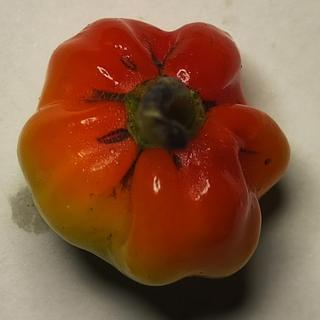Defect: (97, 125, 132, 146), (167, 147, 191, 175), (118, 53, 142, 77)
striped: (111, 145, 152, 193), (141, 36, 180, 76), (81, 86, 128, 109)
